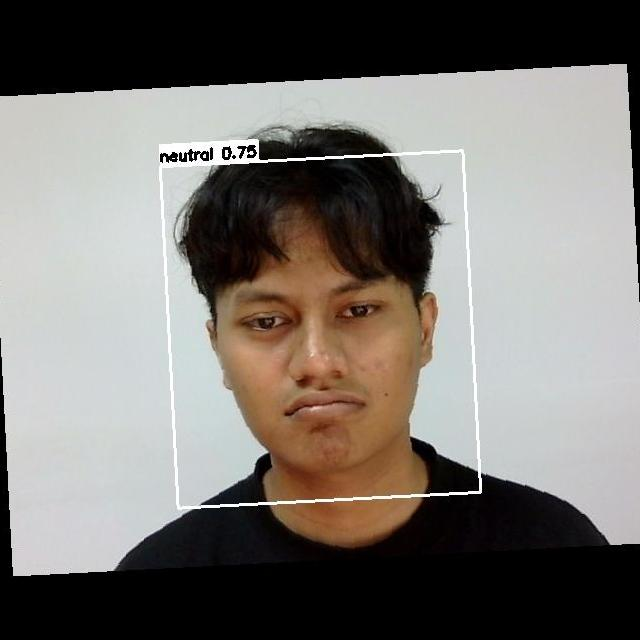Sad: (212, 258, 442, 461)
